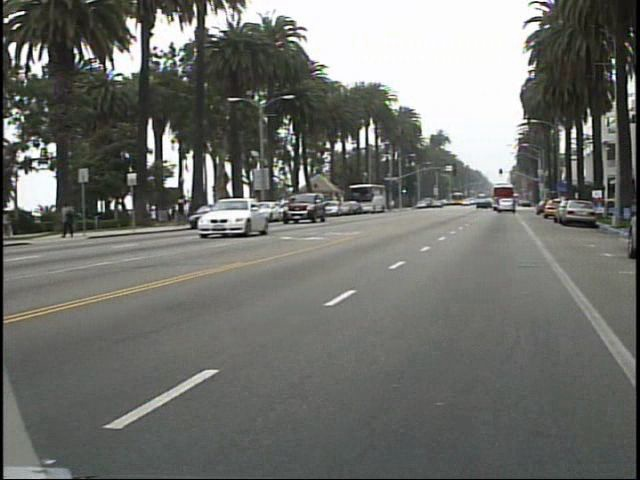person: (65, 194, 87, 239), (179, 191, 199, 225)
